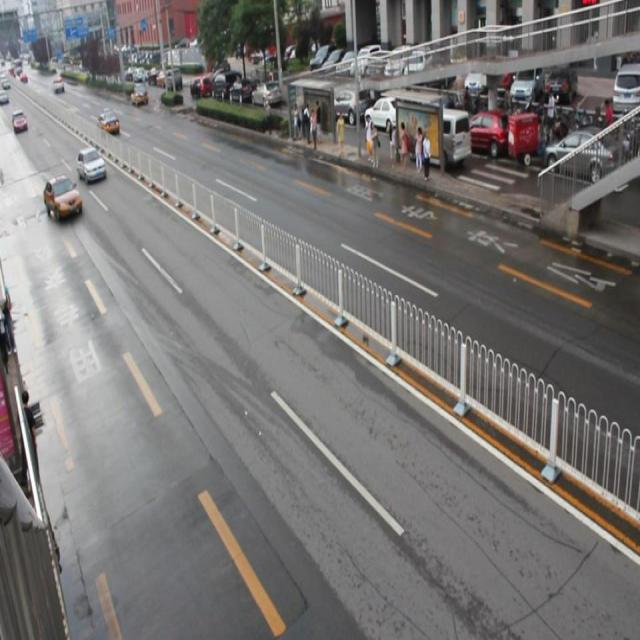car: (44, 176, 81, 217), (76, 147, 107, 182)
